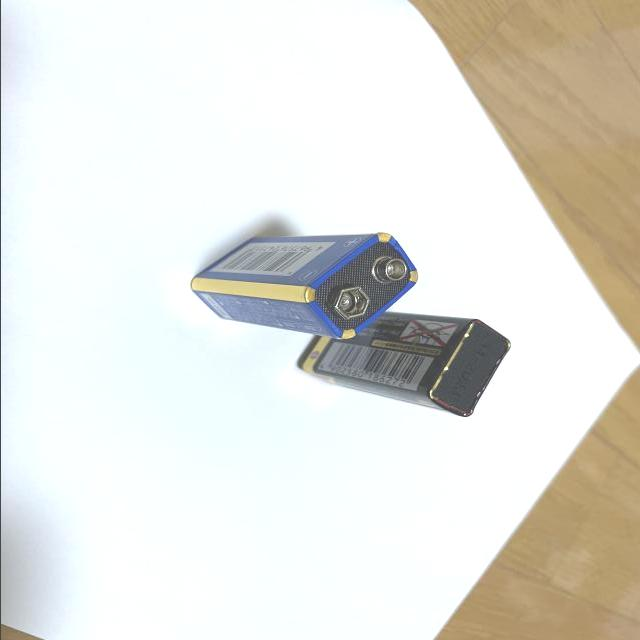9V: (189, 232, 419, 341), (296, 309, 512, 417)
